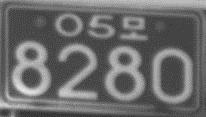0: (152, 46, 194, 105), (54, 12, 84, 37)
2: (58, 42, 98, 101)
5: (87, 13, 115, 39)
8: (103, 44, 146, 101), (11, 40, 51, 97)
모: (119, 15, 147, 41)
